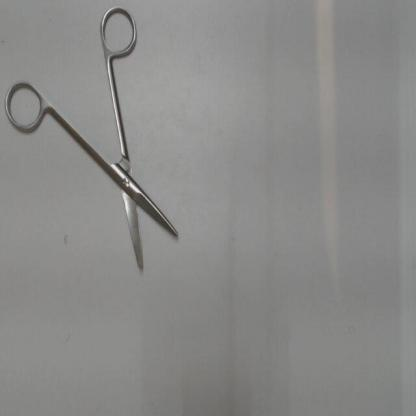Curved Mayo Scissors: (1, 2, 188, 283)
